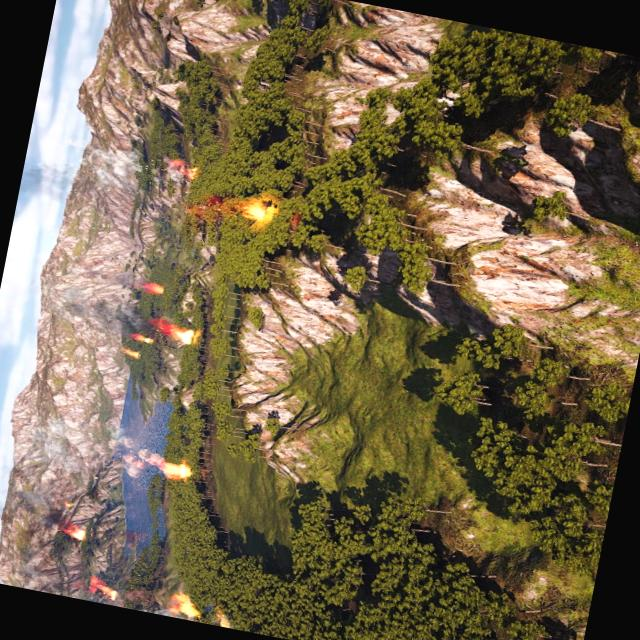fire: (170, 593, 203, 618), (89, 576, 122, 600), (242, 198, 272, 221), (161, 460, 193, 480), (173, 325, 197, 343), (64, 524, 86, 539), (145, 282, 164, 294), (134, 331, 154, 342), (186, 166, 199, 180), (125, 348, 142, 358)
smoke: (19, 128, 190, 224), (22, 412, 166, 482), (0, 468, 73, 532), (147, 314, 177, 334)
